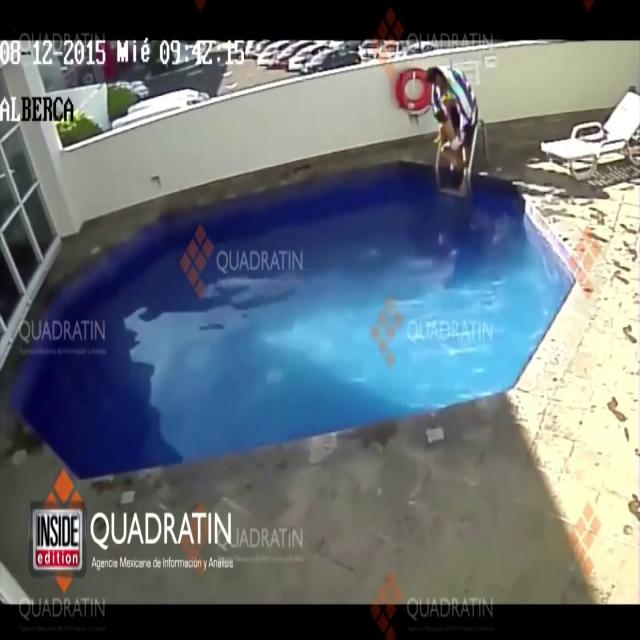adult: (426, 66, 479, 169)
child: (432, 104, 458, 140)
